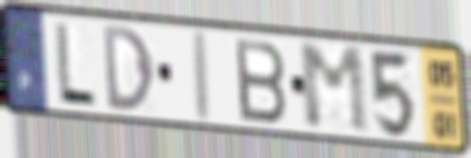5: (367, 48, 419, 141)
B: (232, 36, 290, 127)
D: (99, 22, 157, 114)
I: (192, 26, 214, 126)
L: (52, 19, 99, 111)
M: (295, 41, 374, 137)
